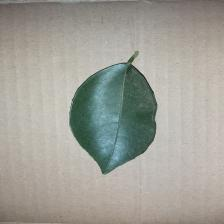healthy: (75, 61, 163, 165)
